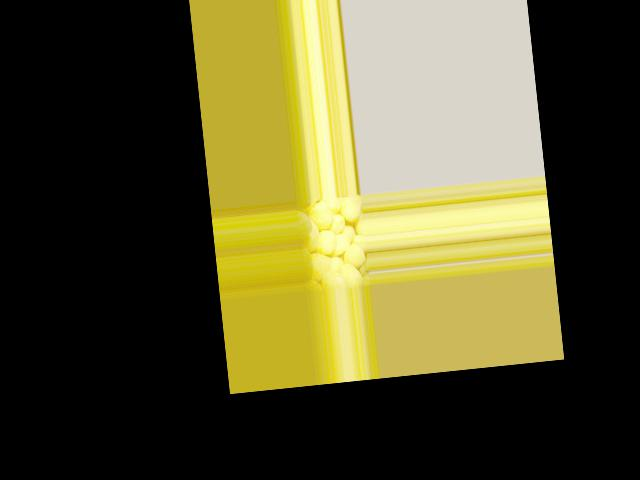lemon: (342, 240, 367, 274)
